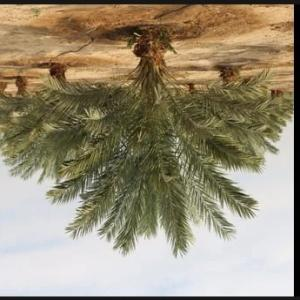palm tree: (0, 23, 293, 258)
